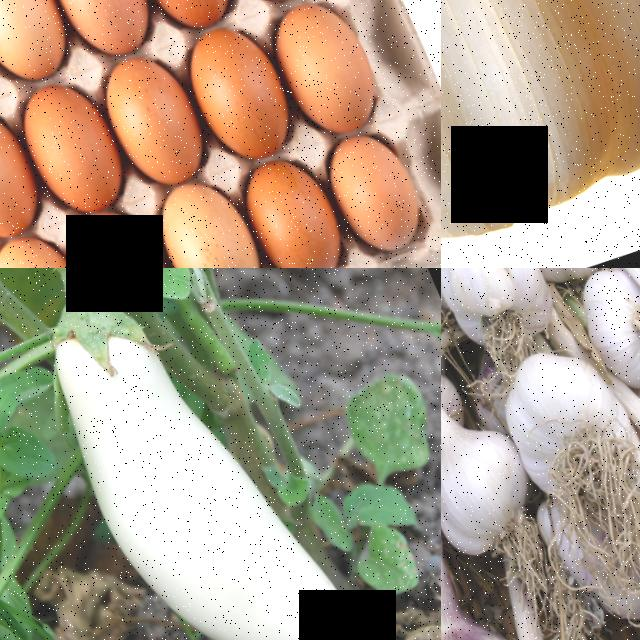egg_: (165, 9, 303, 168), (0, 66, 137, 224), (83, 40, 214, 194), (254, 0, 393, 142), (307, 115, 434, 262), (224, 141, 356, 268), (132, 162, 272, 268), (47, 194, 185, 268), (29, 0, 166, 68), (0, 91, 52, 254), (0, 0, 80, 89), (117, 0, 244, 36), (0, 223, 100, 268)
eggplant: (5, 268, 364, 640)
garlic: (441, 0, 640, 268), (473, 326, 638, 494), (441, 407, 542, 553), (562, 268, 640, 402), (441, 268, 561, 355), (441, 601, 528, 640)
